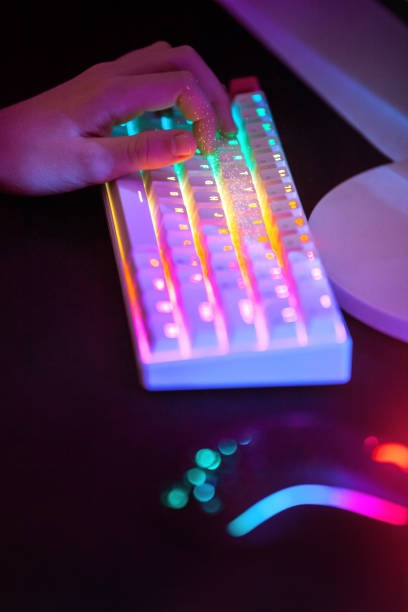keyboard: (90, 71, 340, 391)
